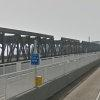Bridge: (3, 23, 95, 82)
